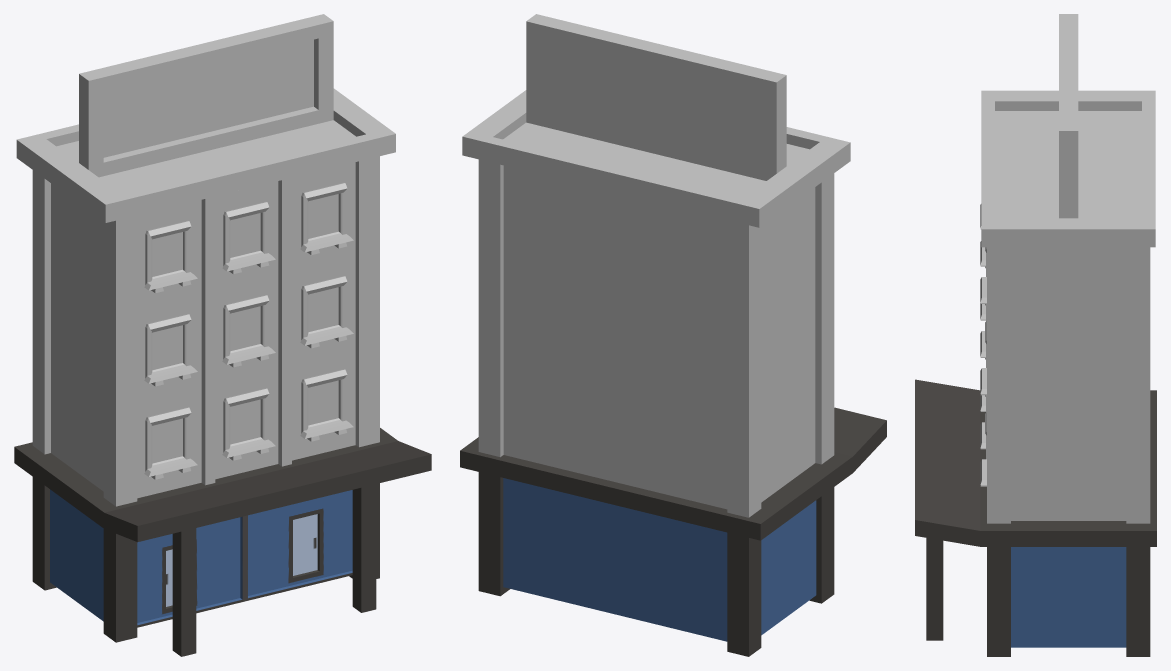
File: House1.fbx
3 renders of one model, left to right at view 1: azimuth 30°, elevation 25°; view 2: azimuth 150°, elevation 25°; view 3: azimuth 270°, elevation 25°, orthographic. The views are drawn at different scales.
Visible parts, largest first — view 1: Middle house, Bottom house, Roof house.001; view 2: Middle house, Bottom house, Roof house.001; view 3: Middle house, Bottom house, Roof house.001.
Part boxes in pixels (box(x1,y1,x2,y2)): Middle house: box(32, 156, 379, 506); Bottom house: box(14, 428, 431, 656); Roof house.001: box(16, 14, 395, 222); Middle house: box(478, 159, 834, 517); Bottom house: box(460, 407, 886, 656); Roof house.001: box(462, 14, 850, 227); Middle house: box(980, 204, 1150, 523); Bottom house: box(915, 379, 1156, 656); Roof house.001: box(981, 14, 1155, 247).
Size of the model in its own units: 1859 by 3218 by 1352.
